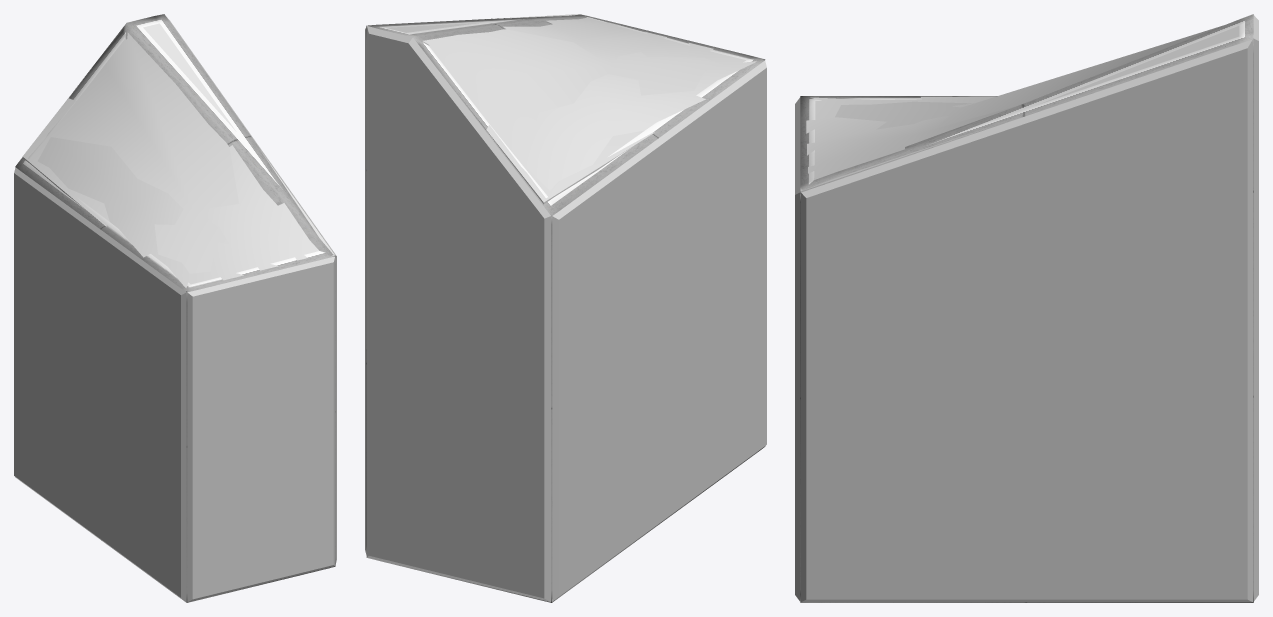
Rendered from s_gm_crawl_05.dae.
3 renders of one model, left to right at view 1: azimuth 30°, elevation 25°; view 2: azimuth 150°, elevation 25°; view 3: azimuth 270°, elevation 25°, orthographic. The views are drawn at different scales.
Visible parts, largest first — view 1: Colmesh_crawl_05-1, crawl_05_a200, crawl_05_a25; view 2: Colmesh_crawl_05-1, crawl_05_a200, crawl_05_a25; view 3: Colmesh_crawl_05-1, crawl_05_a200, crawl_05_a25.
Part boxes in pixels (x1,y1,x2,y2): Colmesh_crawl_05-1: [14, 17, 336, 602]; crawl_05_a200: [15, 14, 335, 602]; crawl_05_a25: [22, 32, 334, 273]; Colmesh_crawl_05-1: [365, 18, 766, 601]; crawl_05_a200: [366, 14, 765, 602]; crawl_05_a25: [423, 14, 722, 204]; Colmesh_crawl_05-1: [795, 15, 1258, 602]; crawl_05_a200: [800, 14, 1253, 602]; crawl_05_a25: [800, 25, 1222, 191].
Size of the model in its own units: 2.1 by 4.1 by 5.51.
